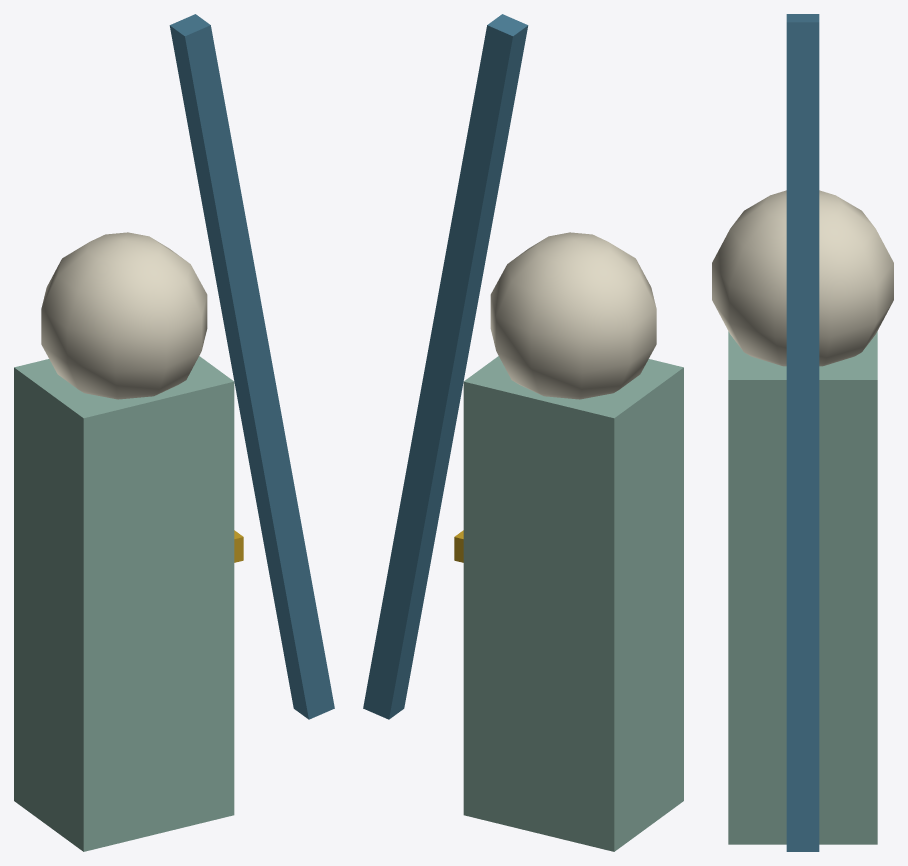
File: jian_xiu.glb
3 renders of one model, left to right at view 1: azimuth 30°, elevation 25°; view 2: azimuth 150°, elevation 25°; view 3: azimuth 270°, elevation 25°, orthographic. The views are drawn at different scales.
Parts seen in each view (by area): view 1: _MeshInstance3D_6, _MeshInstance3D_8, _MeshInstance3D_7; view 2: _MeshInstance3D_6, _MeshInstance3D_8, _MeshInstance3D_7; view 3: _MeshInstance3D_6, _MeshInstance3D_8, _MeshInstance3D_7.
Boxes of the visible parts, left/top/right/bottom form: _MeshInstance3D_6: left=14, top=356, right=234, bottom=851; _MeshInstance3D_8: left=169, top=14, right=334, bottom=719; _MeshInstance3D_7: left=41, top=232, right=207, bottom=399; _MeshInstance3D_6: left=463, top=356, right=683, bottom=851; _MeshInstance3D_8: left=363, top=14, right=528, bottom=719; _MeshInstance3D_7: left=490, top=232, right=656, bottom=399; _MeshInstance3D_6: left=728, top=331, right=877, bottom=844; _MeshInstance3D_8: left=786, top=14, right=819, bottom=851; _MeshInstance3D_7: left=712, top=190, right=893, bottom=366.
Size of the model in its own units: 0.3696 by 0.9757 by 0.195.
